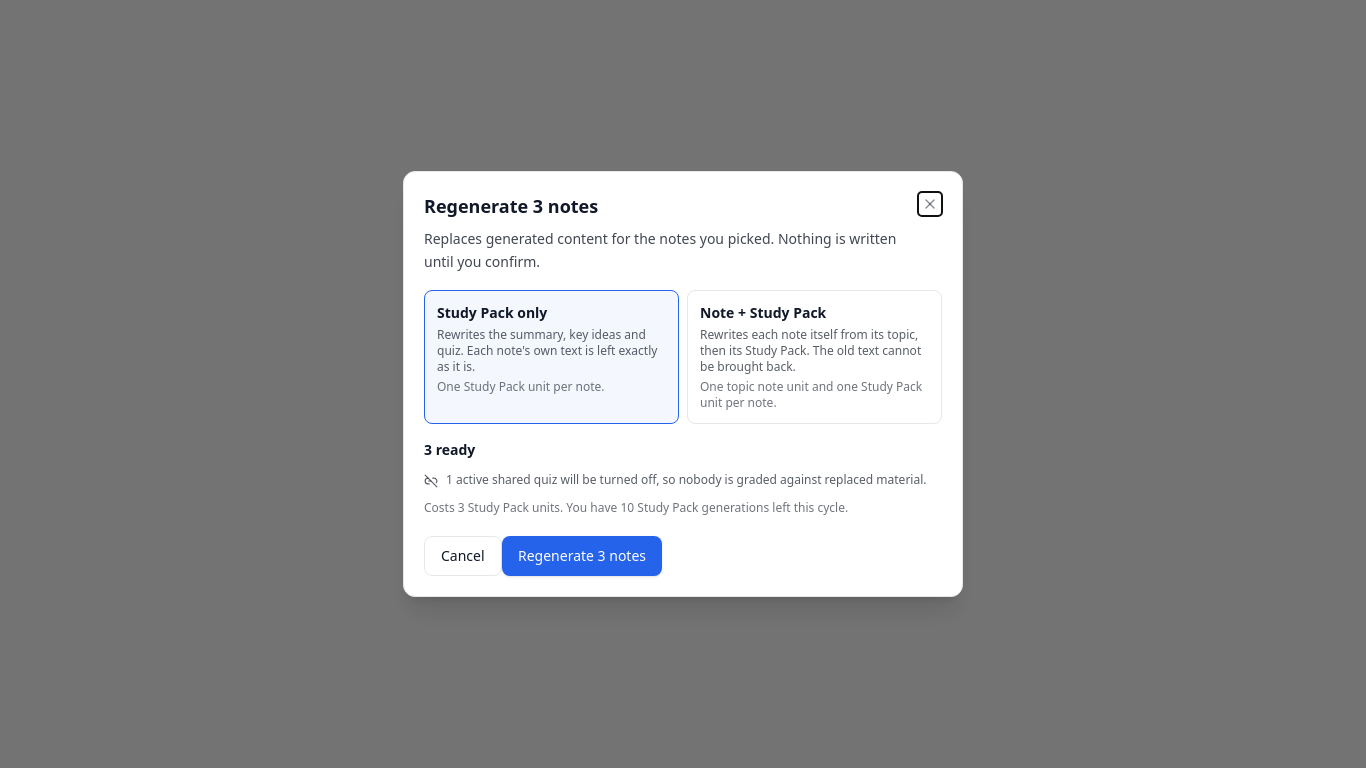
it: BulkRegenerateModal › reports a batch that stopped early as stopped rather than leaving progress running
Click the button "Regenerate 3 notes" at {"x": 582, "y": 556}, box [502,536,662,576]
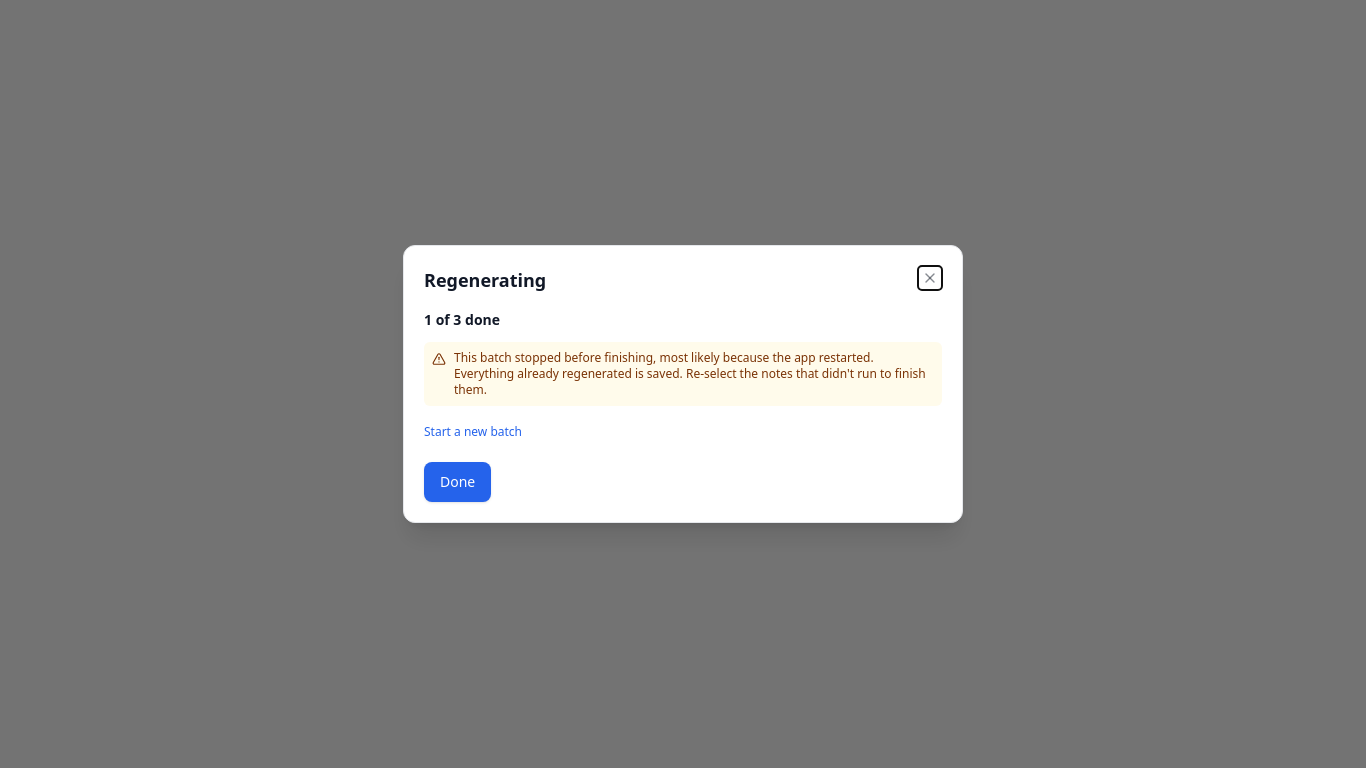
Expected: the text "stopped before finishing" is shown, [454,349,926,398]
